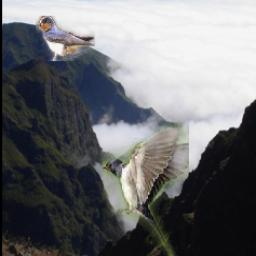Swallow: (103, 123, 189, 256), (37, 17, 96, 62)
